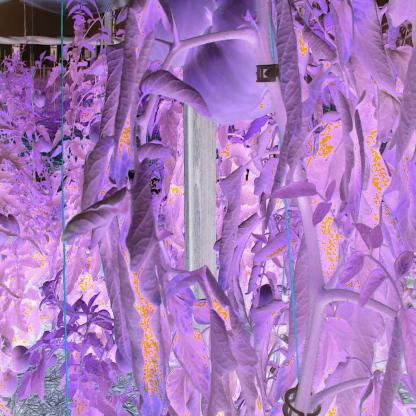tomato leaf: (121, 156, 169, 311), (214, 159, 249, 297), (139, 63, 215, 125), (98, 34, 127, 148)
